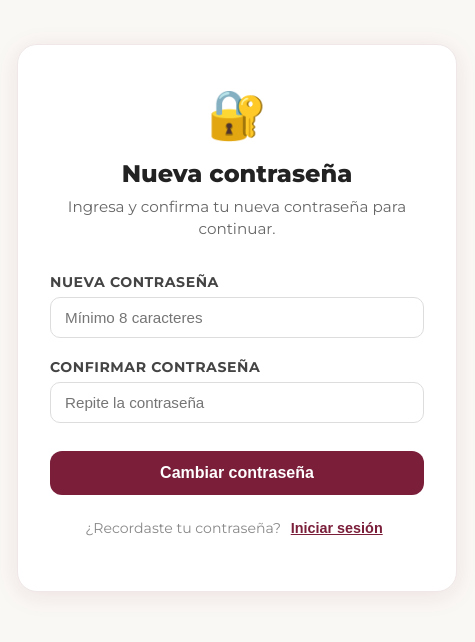
Test: ResetPassword — ramas extra › usa el fallback cuando el error no tiene response.data.detail
In the password field labelled "Nueva contraseña": point(237, 318) [50, 297, 424, 338], type "ValidPass1!"
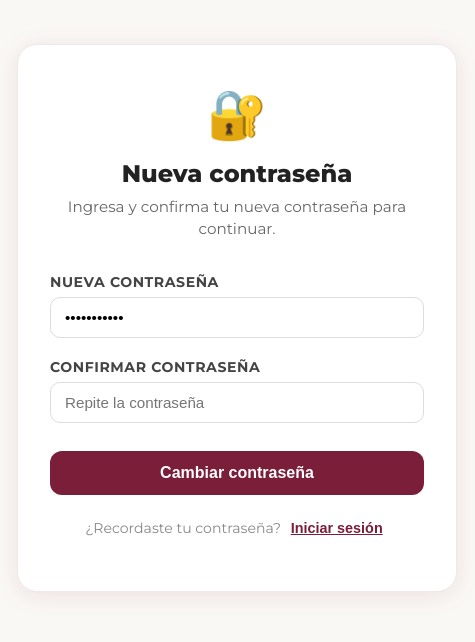
In the password field labelled "Confirmar contraseña": point(237, 403) [50, 382, 424, 423], type "ValidPass1!"
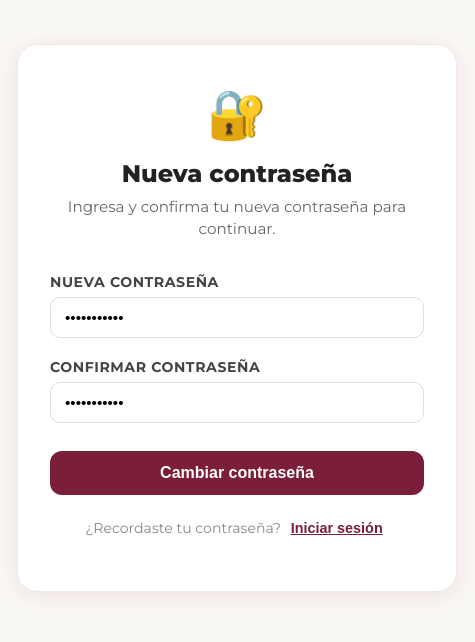
Click the button "Cambiar contraseña": point(237, 473) [50, 451, 424, 495]
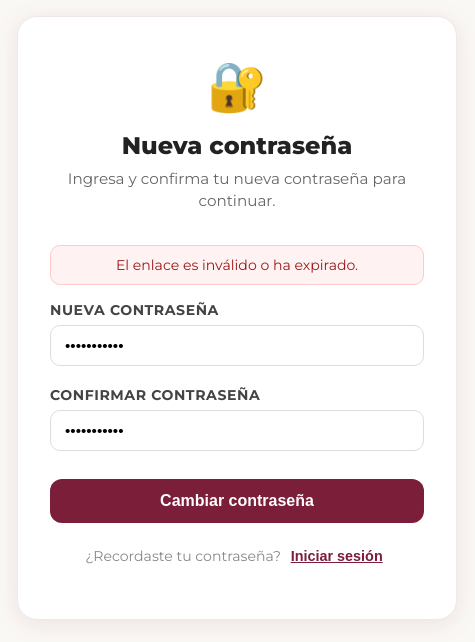
Expected: the text "El enlace es inválido o ha expirado." is shown, [50, 245, 424, 285]
